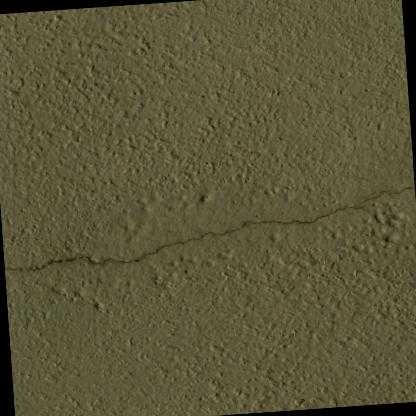crack: (4, 187, 415, 270)
